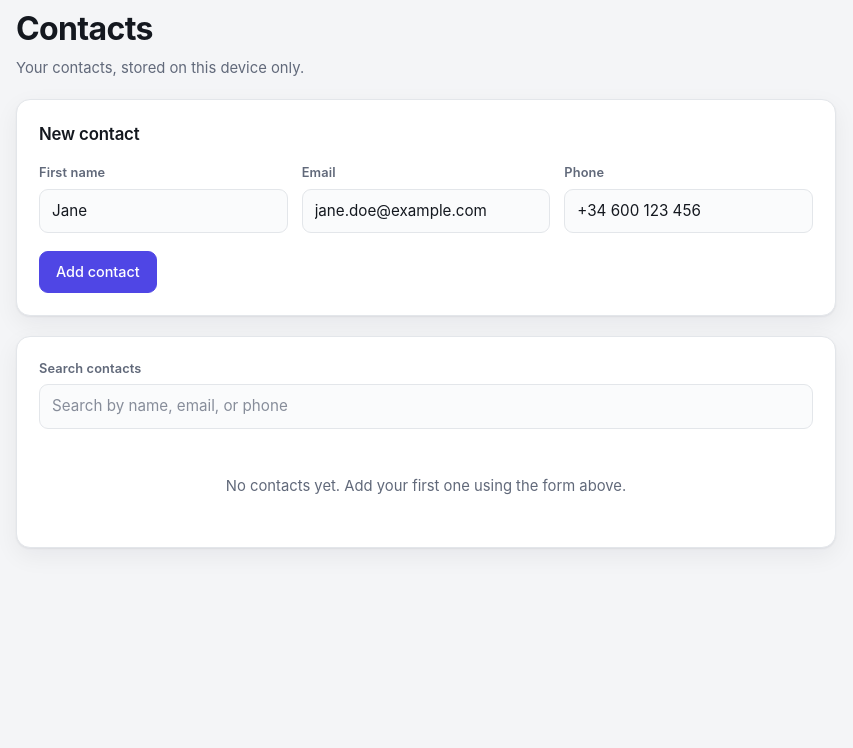
Test: adding a contact › shows the new contact as a row and clears the form
Replace the text in the field labelled "First name" with "Alice" at coordinates (163, 211), box left=39, top=189, right=288, bottom=233
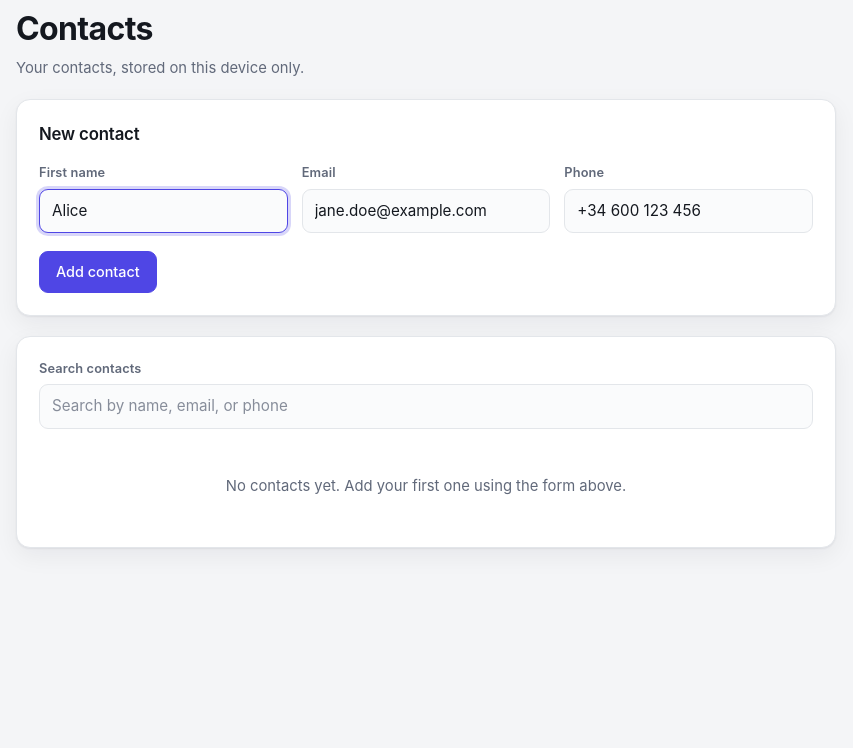
Replace the text in the field labelled "Email" with "alice@example.com" at coordinates (426, 211), box left=302, top=189, right=550, bottom=233
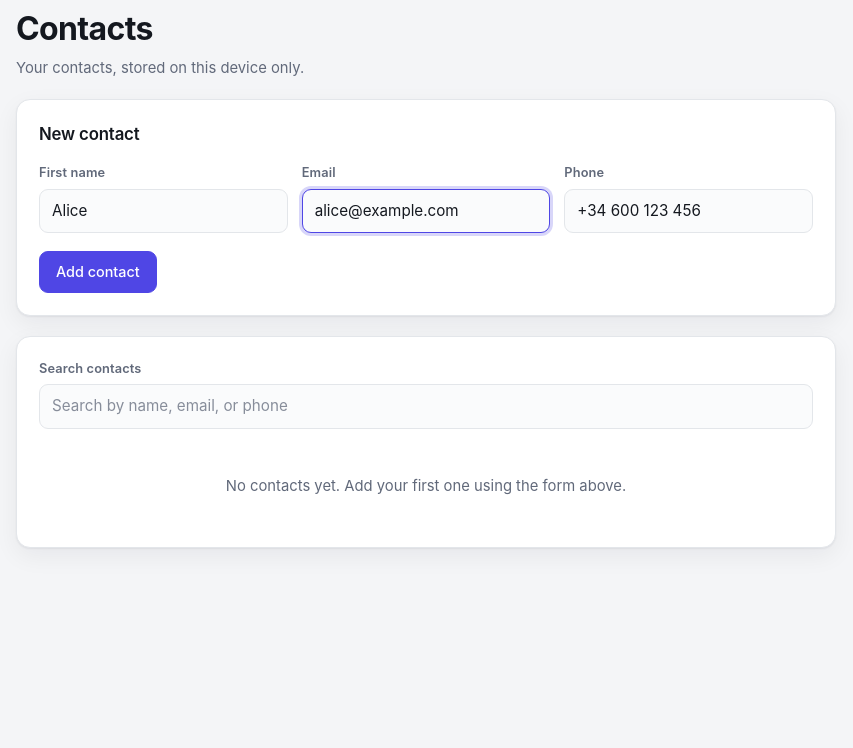
Replace the text in the field labelled "Phone" with "+1 555 111 2222" at coordinates (689, 211), box left=564, top=189, right=813, bottom=233
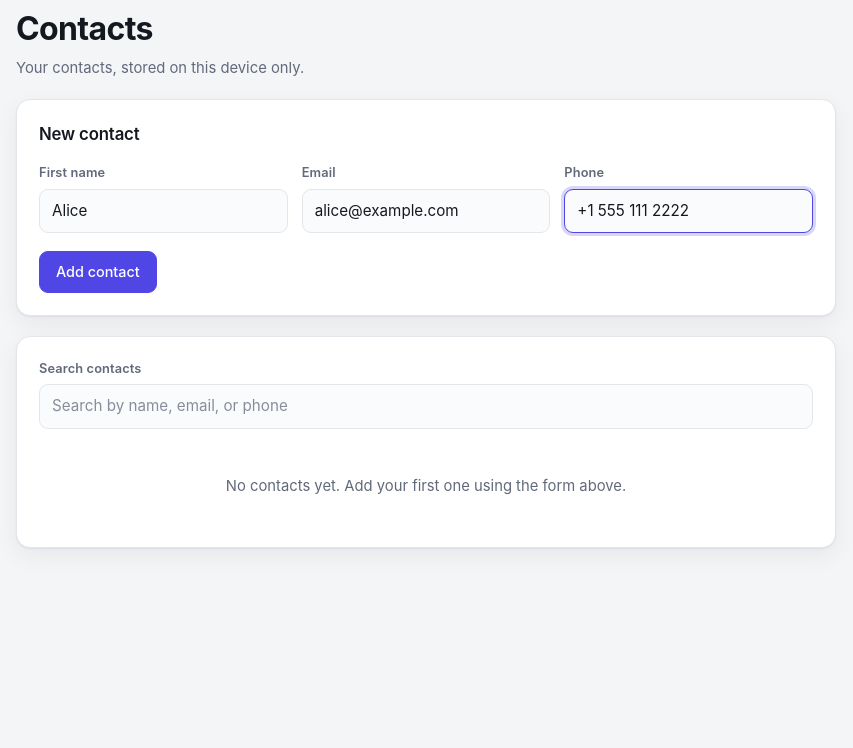
Click the button "Add contact" at coordinates (98, 272), box left=39, top=251, right=157, bottom=293
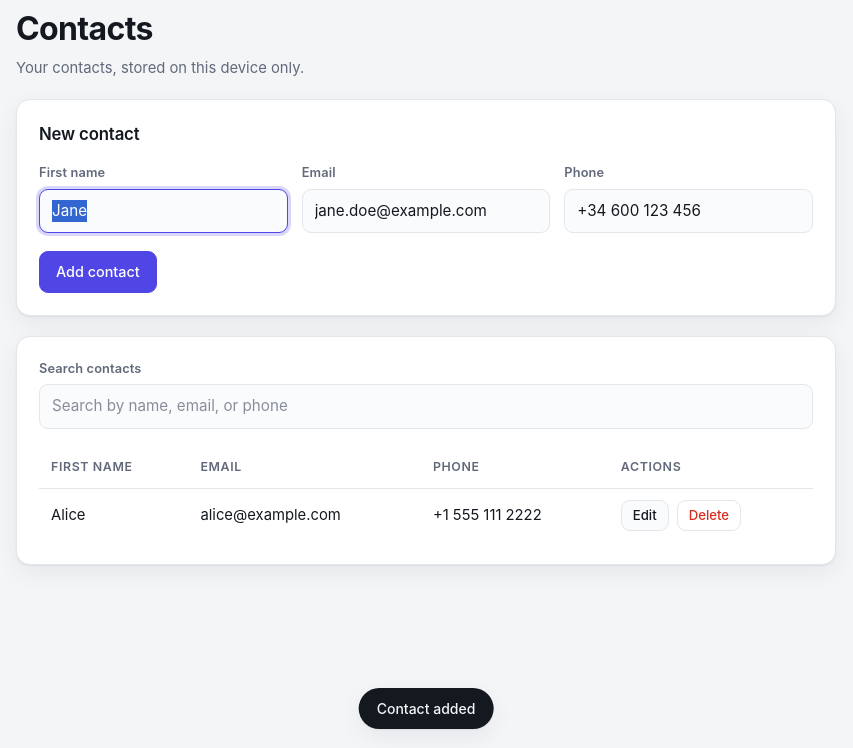
Expected: the text "alice@example.com" is shown, left=188, top=488, right=421, bottom=542
Expected: the text "+1 555 111 2222" is shown, left=421, top=488, right=609, bottom=542
Expected: the field labelled "First name" holds "Jane", left=39, top=189, right=288, bottom=233
